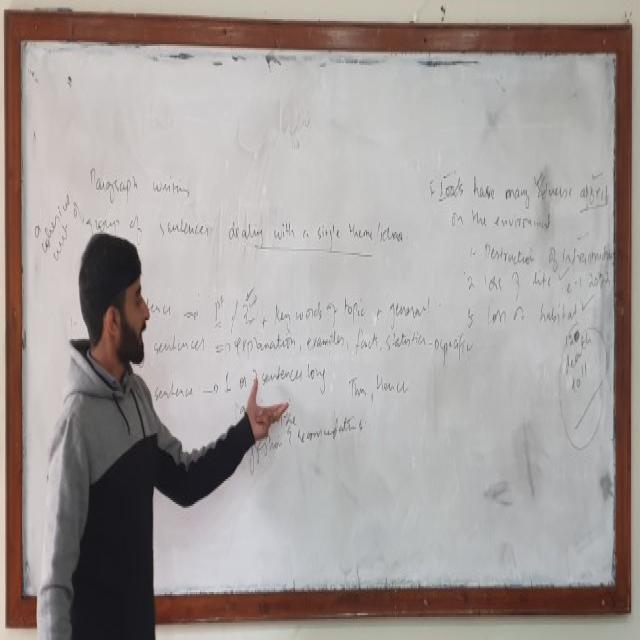Instructor: (53, 220, 169, 640)
White-board: (14, 24, 626, 616)
